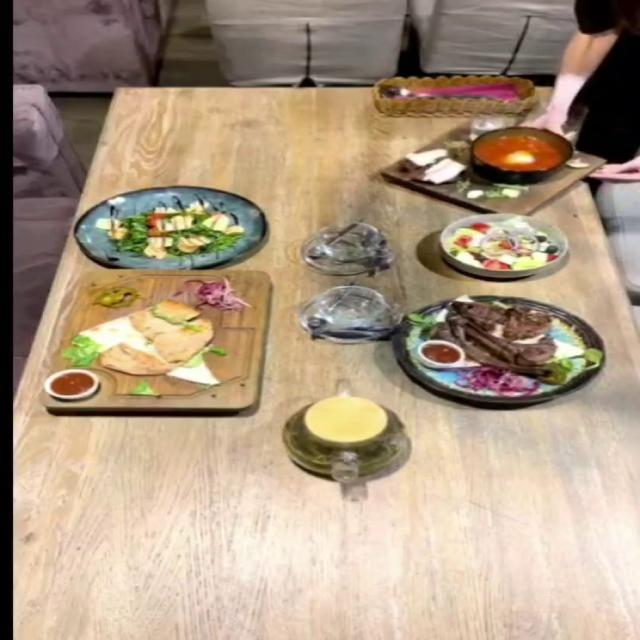meat: (38, 271, 272, 416), (398, 294, 614, 404)
salad: (72, 185, 266, 268), (437, 212, 570, 278)
soup: (374, 114, 606, 214)
tea: (280, 394, 410, 481)
